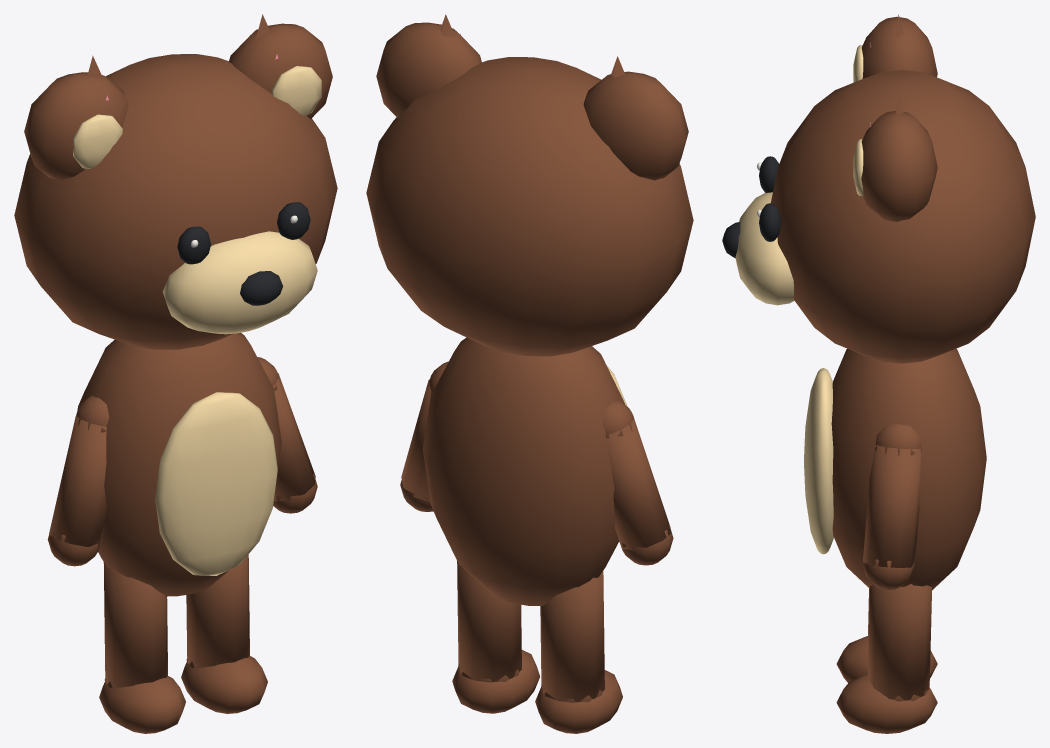
File: brown-bear.glb
3 views of the same model, side by side, from view 1: azimuth 30°, elevation 25°; view 2: azimuth 150°, elevation 25°; view 3: azimuth 270°, elevation 25° (orthographic). The views are drawn at different scales.
Parts seen in each view (by area): view 1: Asset.brown-bear; view 2: Asset.brown-bear; view 3: Asset.brown-bear.
Boxes of the visible parts, bbox=[...] form: Asset.brown-bear: bbox=[14, 14, 337, 733]; Asset.brown-bear: bbox=[366, 14, 693, 733]; Asset.brown-bear: bbox=[722, 14, 1035, 733].
Bounding box in the file's own units: 2.06 × 4.43 × 1.92.
